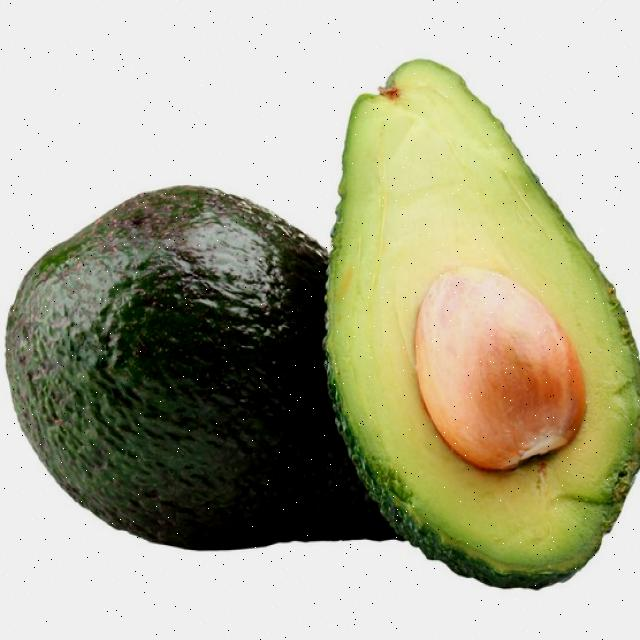Avocado: (298, 9, 640, 596), (0, 169, 462, 593)
